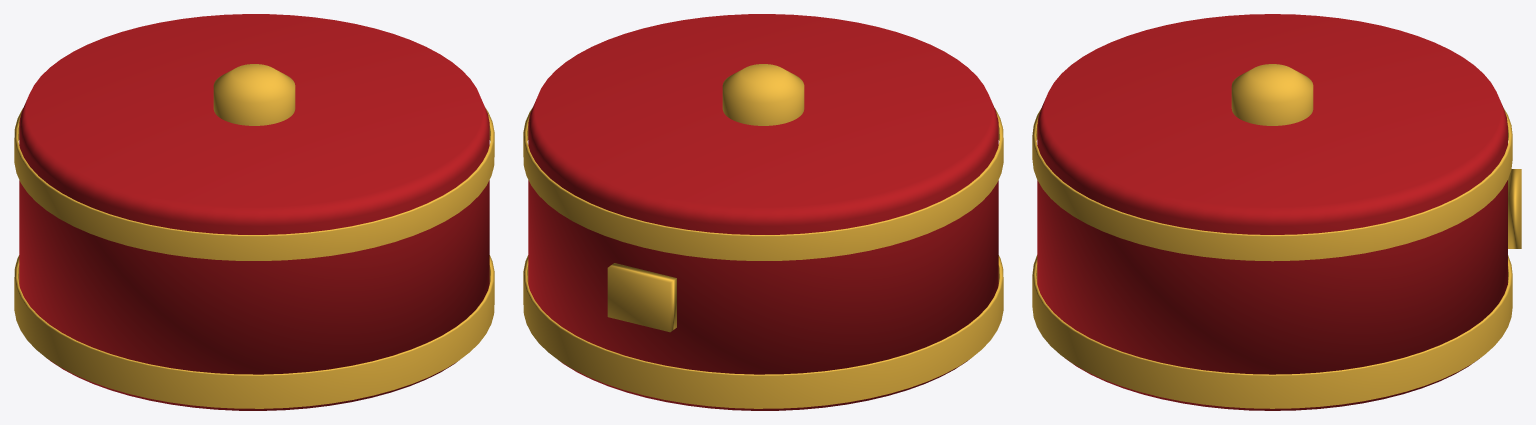
The model's file is pillbox_hat.obj.
The picture shows the model from 3 angles, left to right: view 1: azimuth 30°, elevation 25°; view 2: azimuth 150°, elevation 25°; view 3: azimuth 270°, elevation 25°; orthographic projection.
Visible parts, largest first — view 1: Body, Gold; view 2: Body, Gold; view 3: Body, Gold.
Part boxes in pixels (x1,y1,x2,y2): Body: [19, 14, 489, 410]; Gold: [14, 64, 494, 408]; Body: [528, 14, 998, 410]; Gold: [523, 64, 1003, 408]; Body: [1037, 14, 1507, 410]; Gold: [1032, 64, 1521, 408].
Size of the model in its own units: 1.06 by 0.585 by 1.08.
